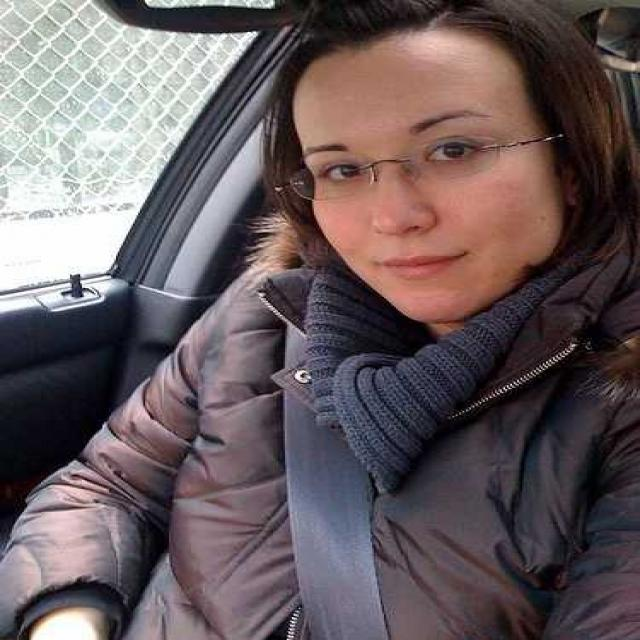seatbelt: (249, 297, 418, 632)
